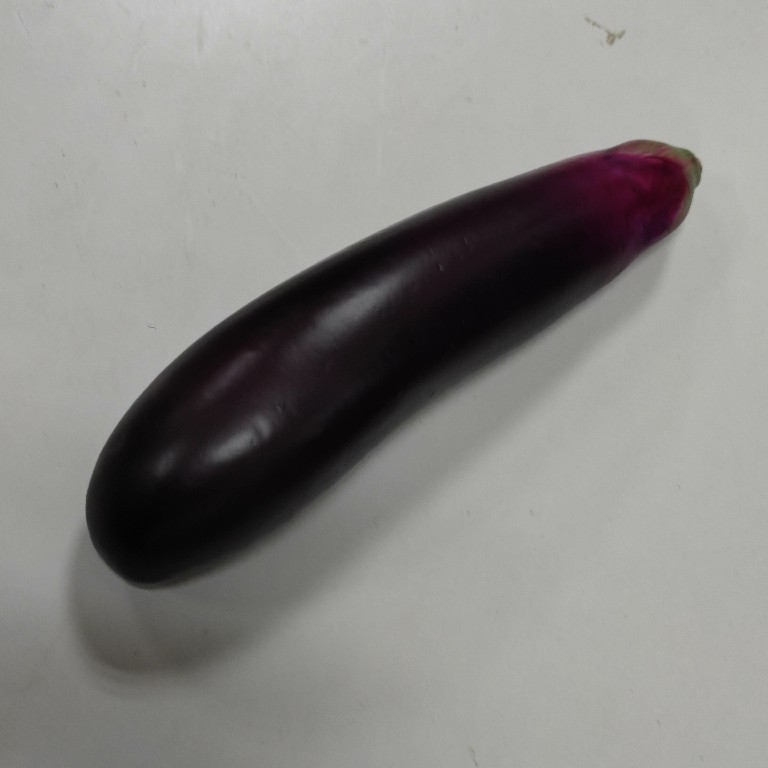fruit_eggplant: (79, 133, 707, 596)
